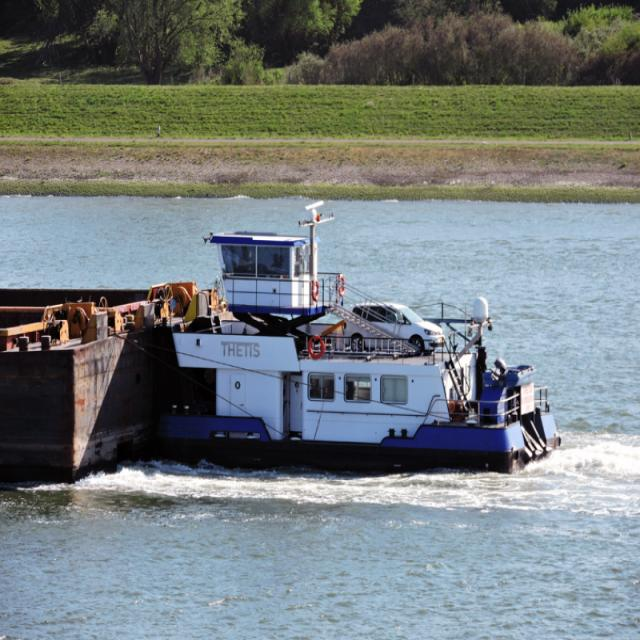tugboat: (139, 197, 569, 491)
